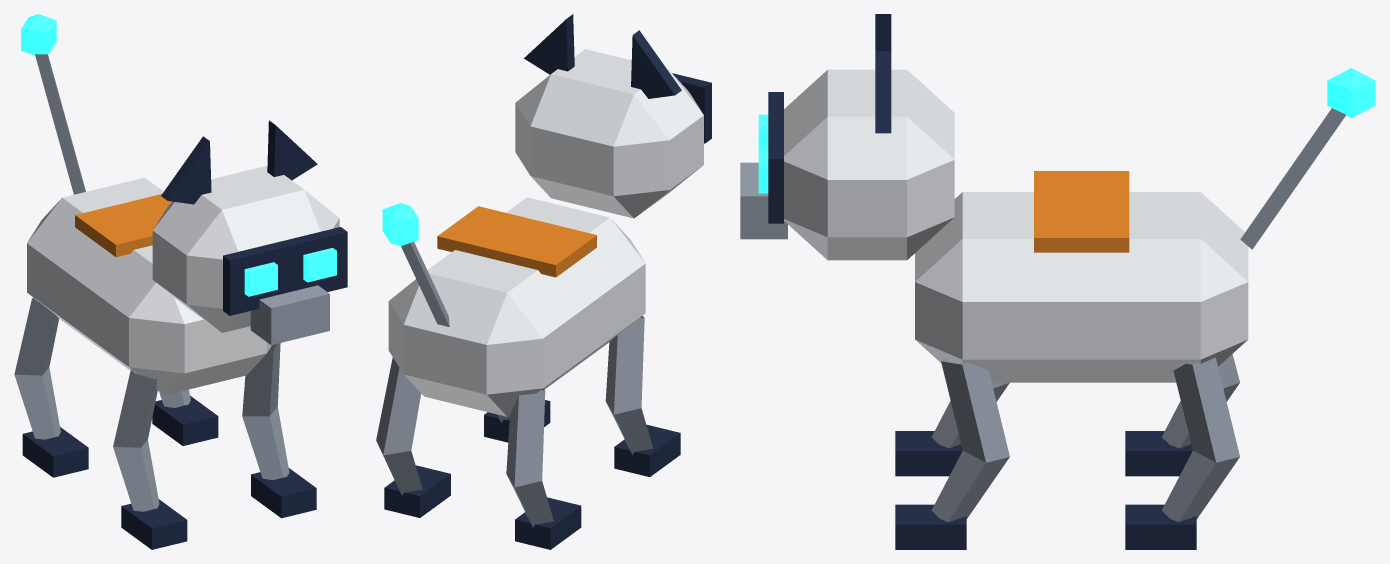
The model's file is robot_dog.glb.
3 renders of one model, left to right at view 1: azimuth 30°, elevation 25°; view 2: azimuth 150°, elevation 25°; view 3: azimuth 270°, elevation 25°, orthographic. The views are drawn at different scales.
Parts seen in each view (by area): view 1: robot_dog; view 2: robot_dog; view 3: robot_dog.
Part boxes in pixels (bbox=[...]): robot_dog: bbox=[14, 14, 347, 549]; robot_dog: bbox=[376, 14, 711, 549]; robot_dog: bbox=[740, 14, 1375, 549].
Bounding box in the file's own units: 0.28 × 0.654 × 0.8003.
